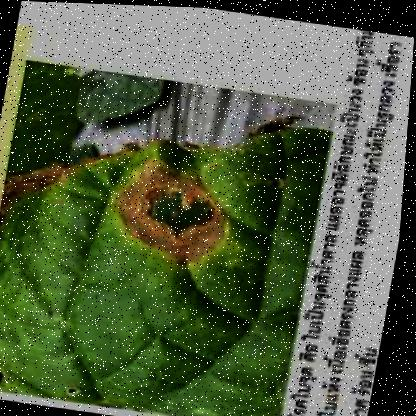AlternariaBrassicicola: (100, 147, 242, 279)
